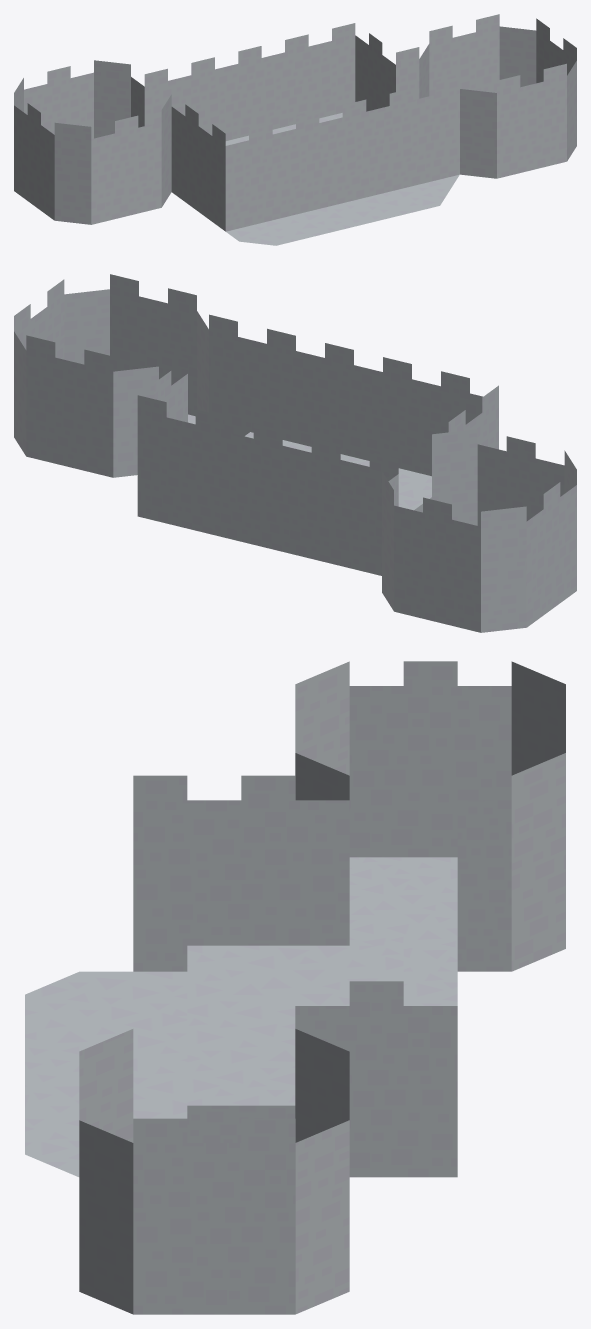
The model's file is building_den_floor2.glb.
3 views of the same model, one above another, from view 1: azimuth 30°, elevation 25°; view 2: azimuth 150°, elevation 25°; view 3: azimuth 270°, elevation 25° (orthographic). The views are drawn at different scales.
Visible parts, largest first — view 1: building_den_floor2; view 2: building_den_floor2; view 3: building_den_floor2.
Part boxes in pixels (x1,y1,x2,y2): building_den_floor2: (14, 14, 576, 245); building_den_floor2: (14, 274, 576, 632); building_den_floor2: (25, 661, 565, 1314).
Size of what is drawn, in the model's own units: 20 by 4 by 10.
3 materials, 2 textured.
